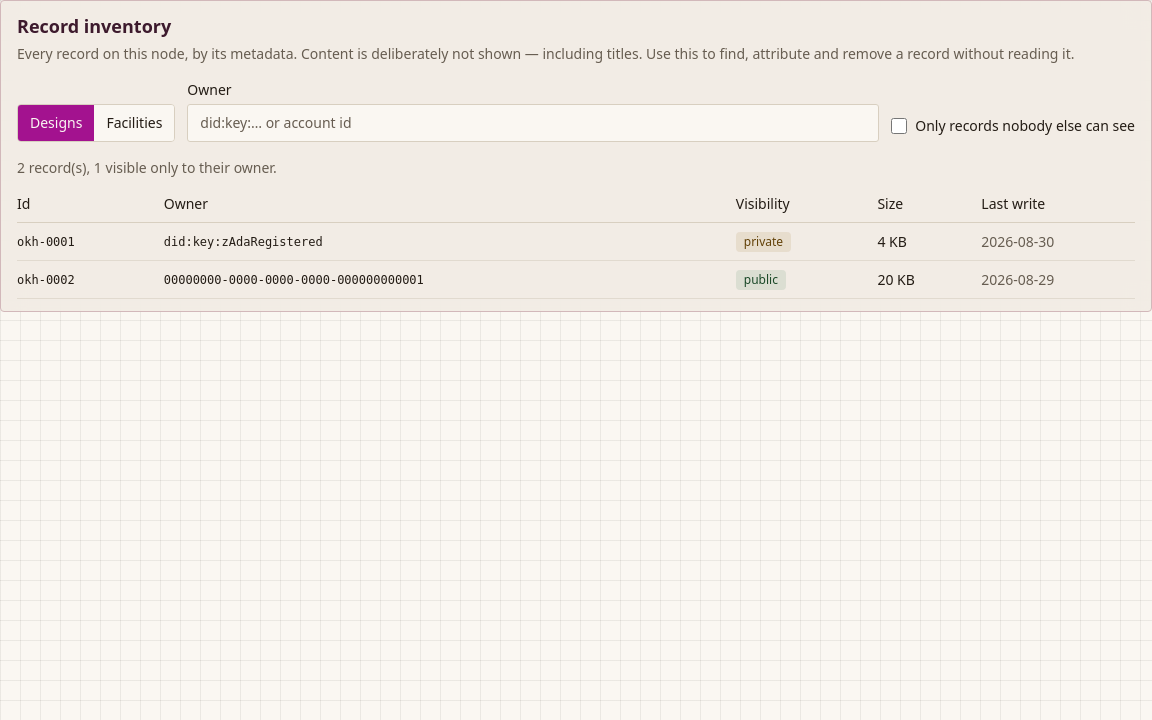
Scenario: InventoryPanel › filters to the records that are not shared
The image size is (1152, 720).
Expected: the text "okh-0001" is shown, [17, 223, 164, 260]
Click the checkbox labelled "Only records nobody else can see" at [899, 126], box [891, 118, 907, 134]
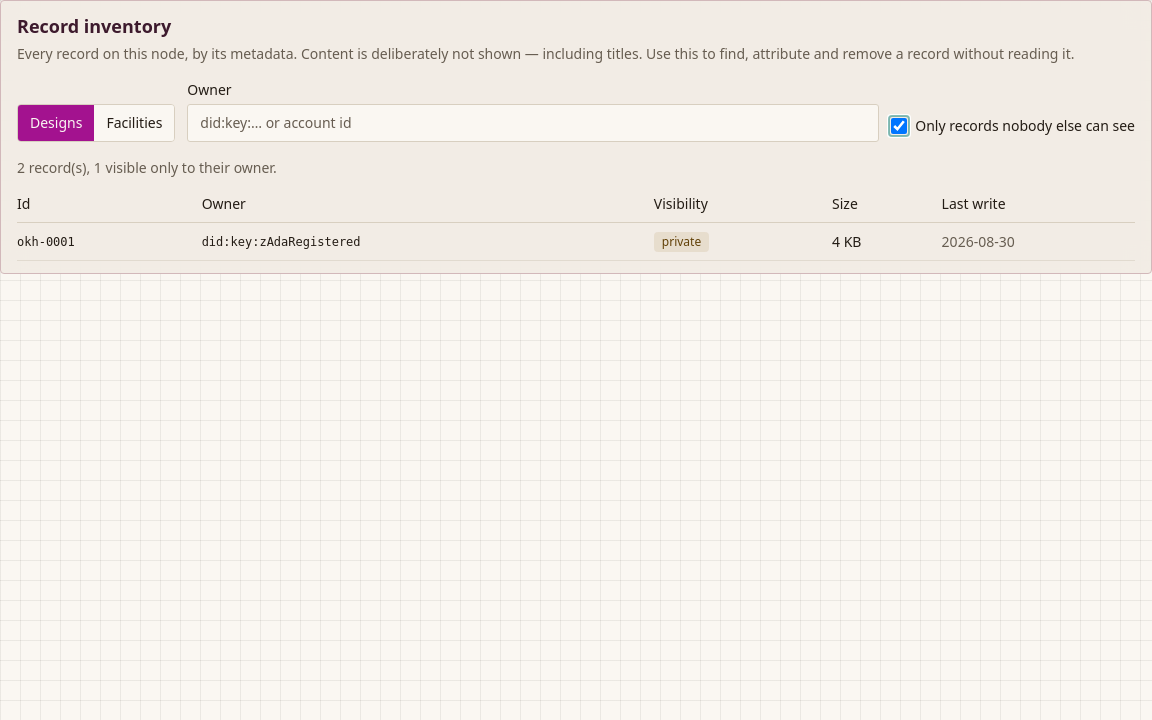
Expected: the text "okh-0001" is shown, [17, 223, 202, 260]
Expected: the text "okh-0002" is gone
